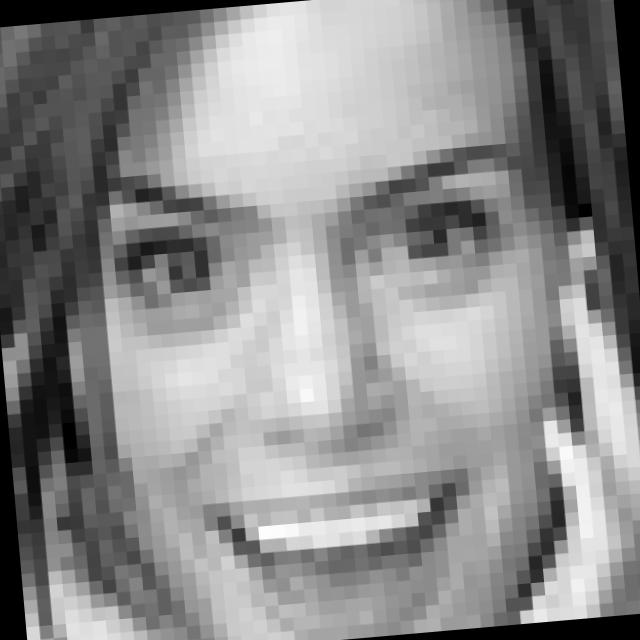happy: (86, 130, 565, 640)
